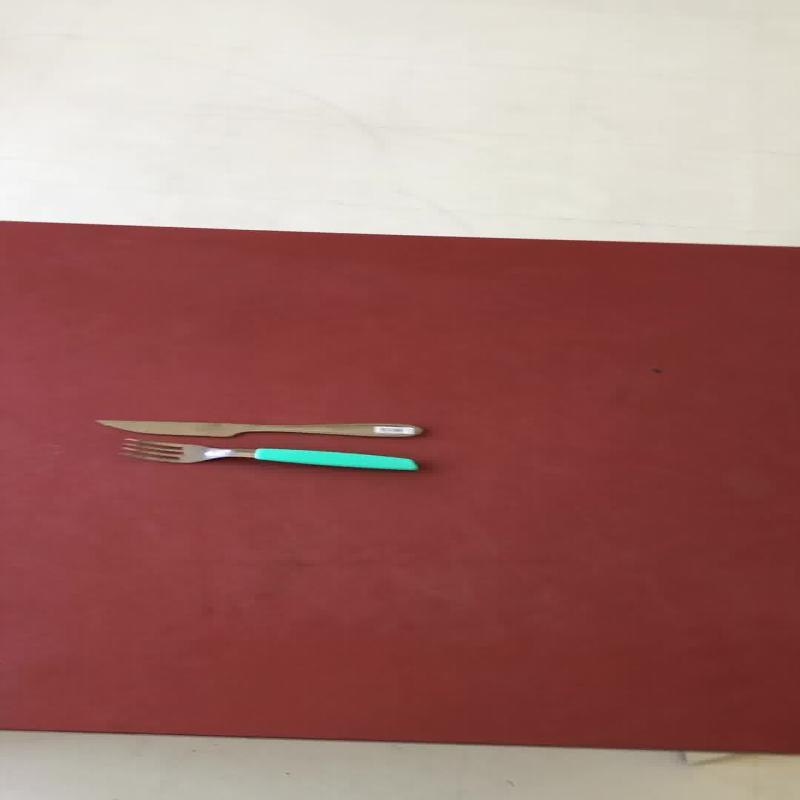fork: (116, 437, 419, 471)
knife: (93, 418, 424, 438)
